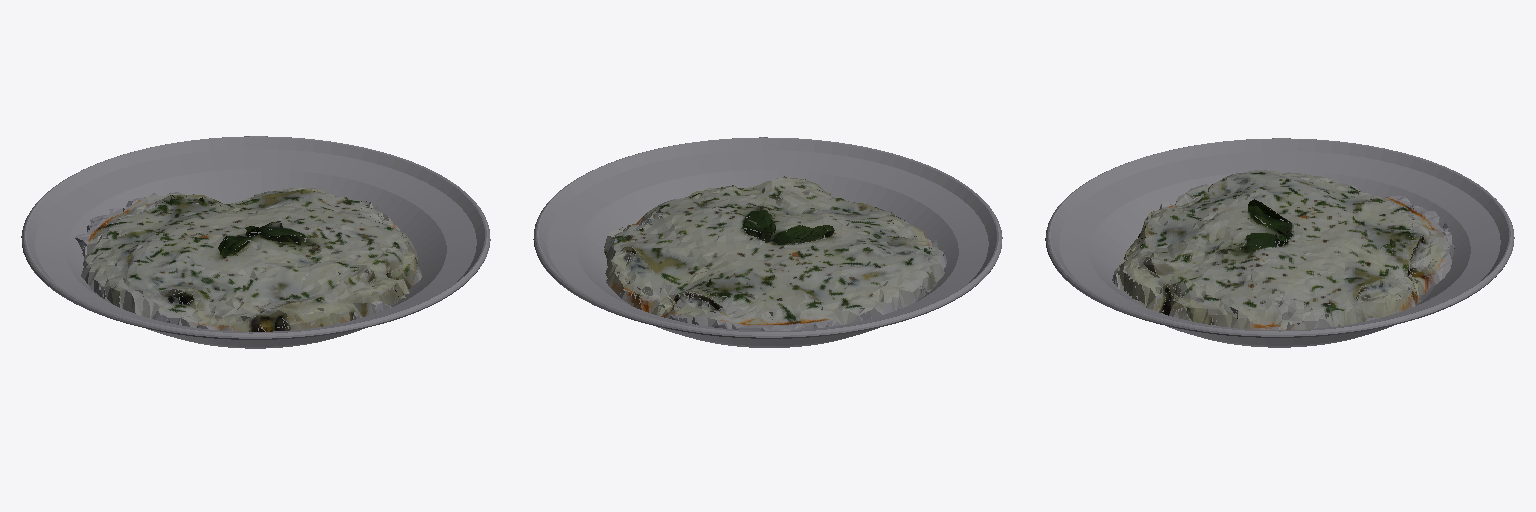
3 renders of one model, left to right at view 1: azimuth 30°, elevation 25°; view 2: azimuth 150°, elevation 25°; view 3: azimuth 270°, elevation 25°, orthographic.
Visible parts, largest first — view 1: model_1:group model_1:model_1_group model_1:model_1_model_defaul, model_1:group model_1:model_1_group1 model_1:model_1_polySurface; view 2: model_1:group model_1:model_1_group model_1:model_1_model_defaul, model_1:group model_1:model_1_group1 model_1:model_1_polySurface; view 3: model_1:group model_1:model_1_group model_1:model_1_model_defaul, model_1:group model_1:model_1_group1 model_1:model_1_polySurface.
Boxes of the visible parts, x1,y1,x2,y2 form: model_1:group model_1:model_1_group model_1:model_1_model_defaul: [75, 188, 421, 331]; model_1:group model_1:model_1_group1 model_1:model_1_polySurface: [21, 136, 490, 348]; model_1:group model_1:model_1_group model_1:model_1_model_defaul: [604, 176, 946, 330]; model_1:group model_1:model_1_group1 model_1:model_1_polySurface: [533, 137, 1002, 347]; model_1:group model_1:model_1_group model_1:model_1_model_defaul: [1112, 170, 1454, 329]; model_1:group model_1:model_1_group1 model_1:model_1_polySurface: [1045, 138, 1514, 347].
Bounding box in the file's own units: 15.87 × 2.51 × 15.87.
Materials: 1 (1 with a texture image).